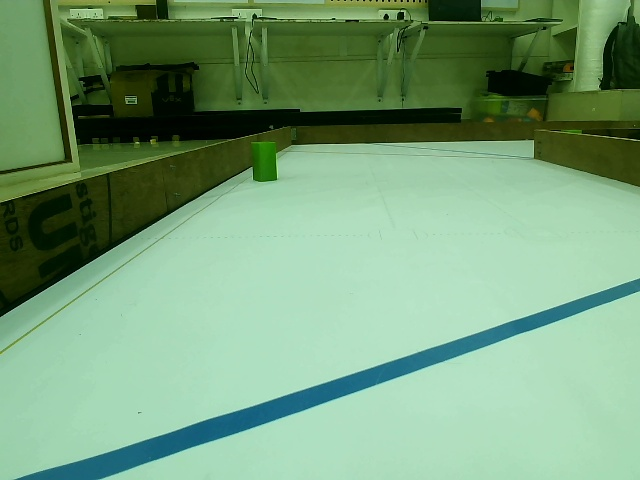green: (253, 141, 278, 182)
